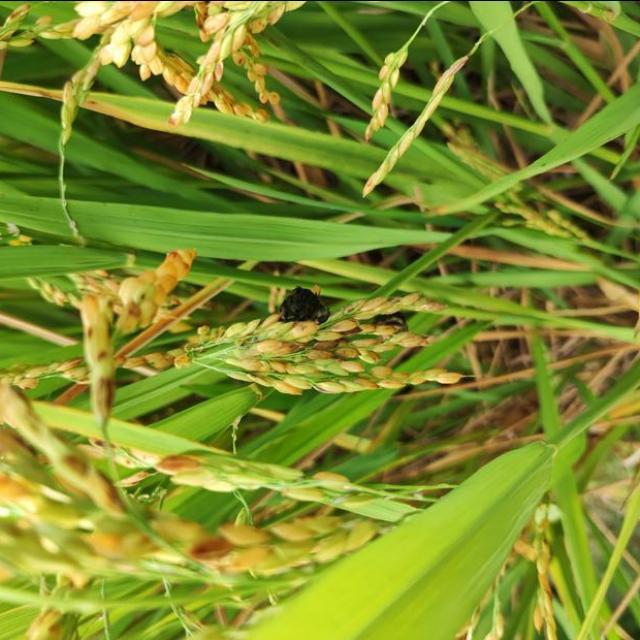Leaf_Scald: (276, 284, 332, 328), (370, 310, 408, 336)
